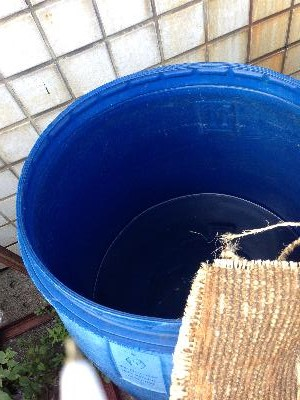bucket: (15, 61, 300, 400)
